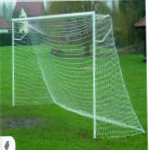goals: (8, 10, 145, 141)
